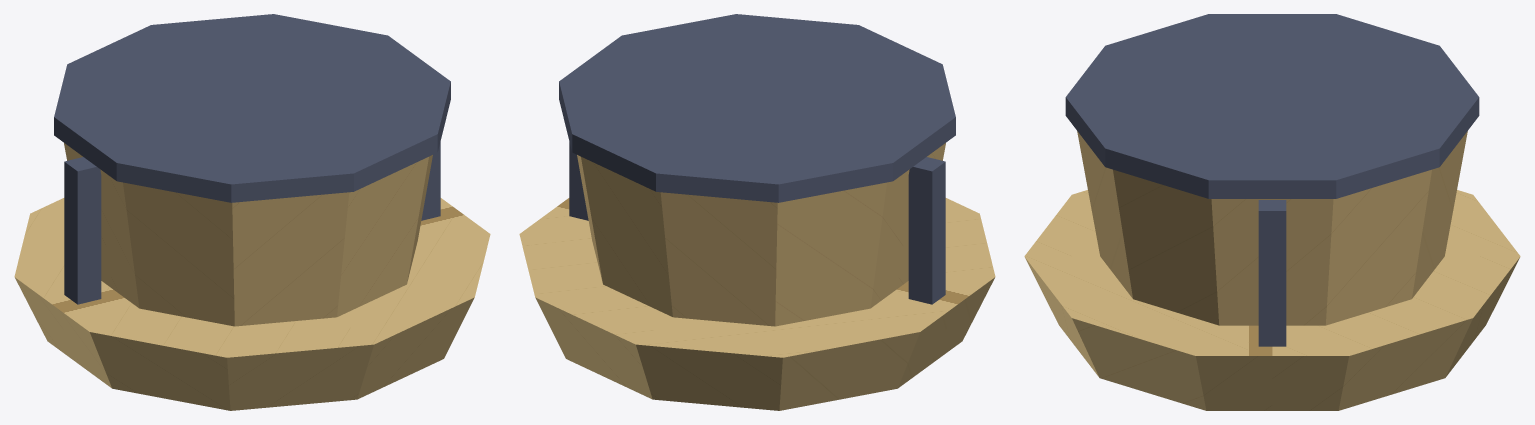
The model's file is prp_reservoir_a.glb.
The picture shows the model from 3 angles, left to right: view 1: azimuth 30°, elevation 25°; view 2: azimuth 150°, elevation 25°; view 3: azimuth 270°, elevation 25°; orthographic projection.
Parts seen in each view (by area): view 1: lod0__reservoir_clay, lod0__reservoir_alloy; view 2: lod0__reservoir_clay, lod0__reservoir_alloy; view 3: lod0__reservoir_clay, lod0__reservoir_alloy.
Part boxes in pixels (x1,y1,x2,y2): lod0__reservoir_clay: [14, 143, 490, 410]; lod0__reservoir_alloy: [54, 14, 450, 304]; lod0__reservoir_clay: [519, 143, 995, 410]; lod0__reservoir_alloy: [559, 14, 955, 304]; lod0__reservoir_clay: [1024, 131, 1520, 410]; lod0__reservoir_alloy: [1065, 14, 1479, 346].
Size of the model in its own units: 1.37 by 0.73 by 1.44.
2 materials, 1 textured.
